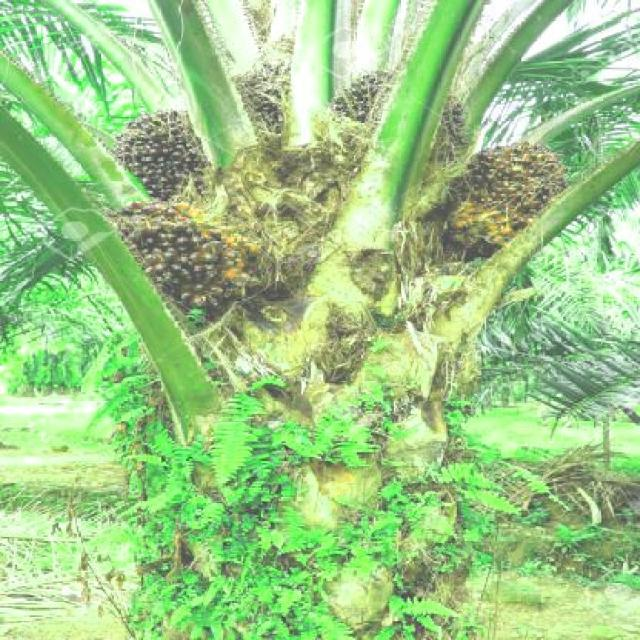palm-oil: (434, 144, 580, 254), (119, 196, 255, 312), (326, 64, 466, 166), (110, 112, 218, 202), (230, 65, 304, 154)
